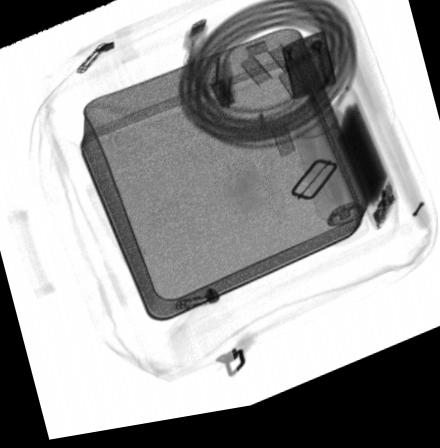Lighter: (282, 41, 335, 111)
Powerbank: (326, 91, 399, 244)
Sprayer: (292, 119, 371, 259)
